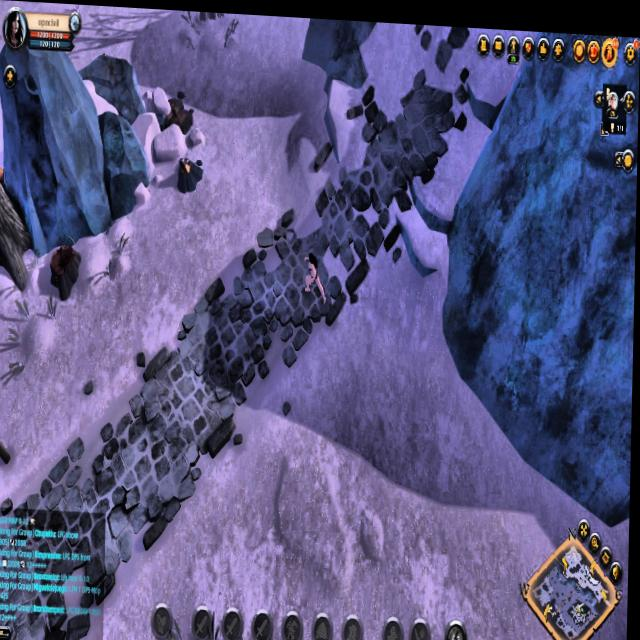copper_ore: (171, 145, 208, 199)
